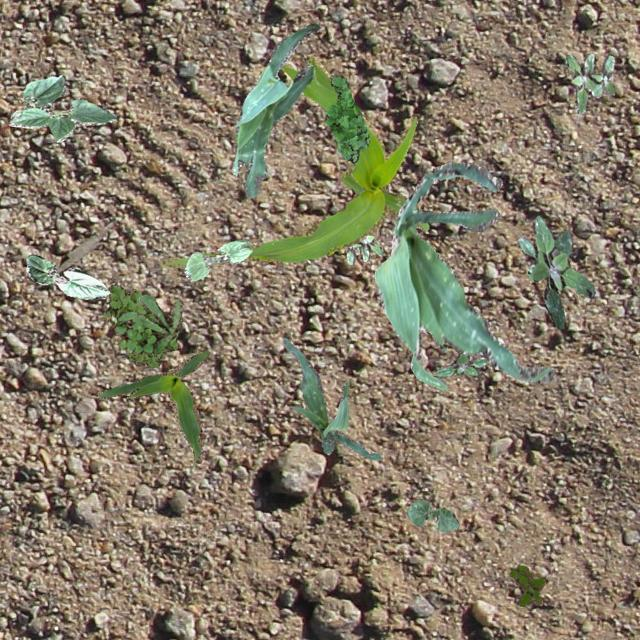crop: (160, 54, 428, 268), (372, 160, 554, 388), (230, 22, 318, 196), (96, 348, 208, 462), (282, 336, 382, 459), (10, 75, 116, 142), (26, 254, 110, 298), (182, 238, 250, 280), (406, 498, 458, 530)
weed: (516, 215, 594, 328), (102, 284, 176, 366), (114, 294, 182, 354), (324, 75, 368, 162), (564, 53, 614, 114), (508, 564, 544, 606), (434, 352, 486, 378), (346, 234, 382, 262)
